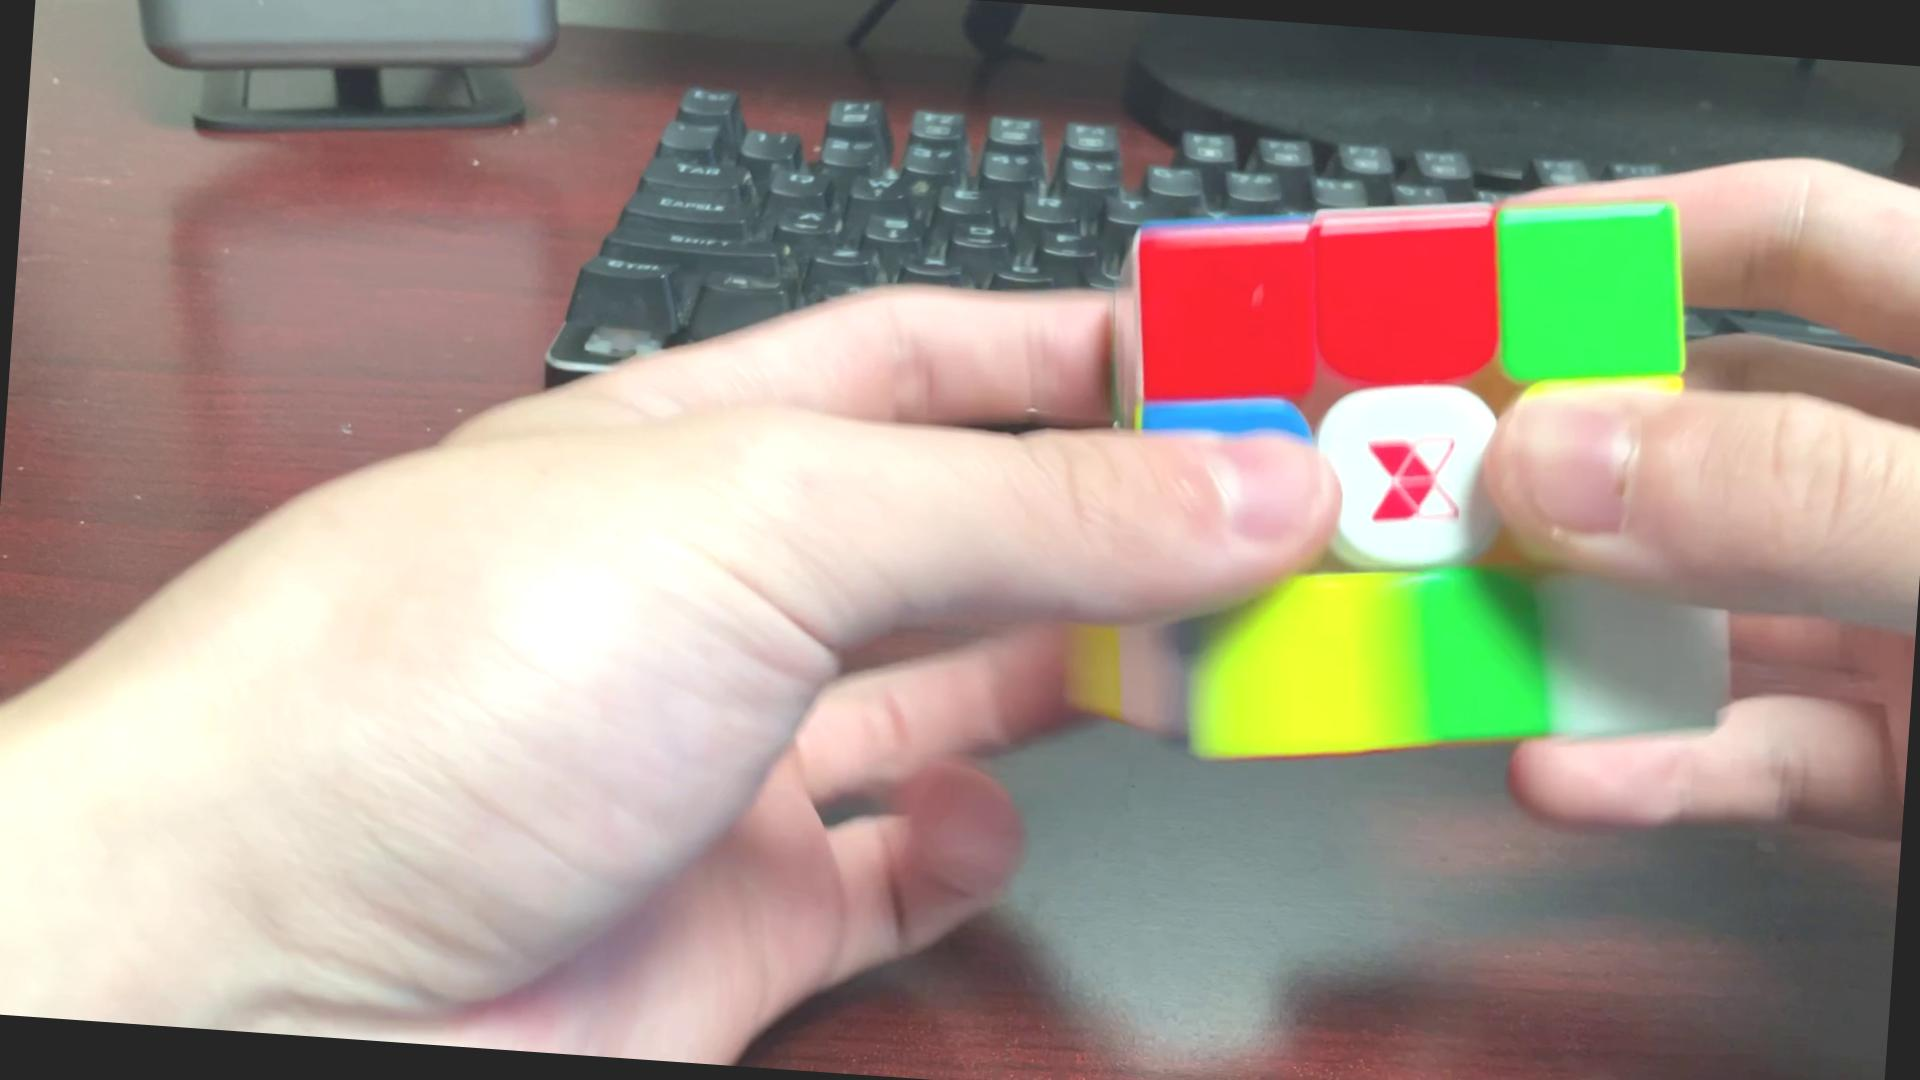Rubiks-Cube: (1074, 157, 1768, 818)
